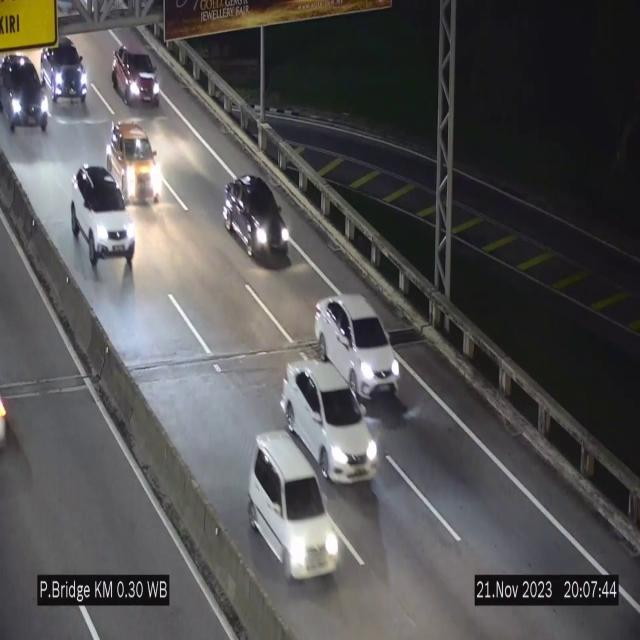Car: (248, 432, 340, 580), (281, 362, 377, 482), (314, 295, 402, 401), (73, 169, 143, 271), (222, 170, 292, 268), (107, 118, 166, 210), (0, 52, 49, 134), (40, 31, 88, 109), (112, 43, 160, 107)
